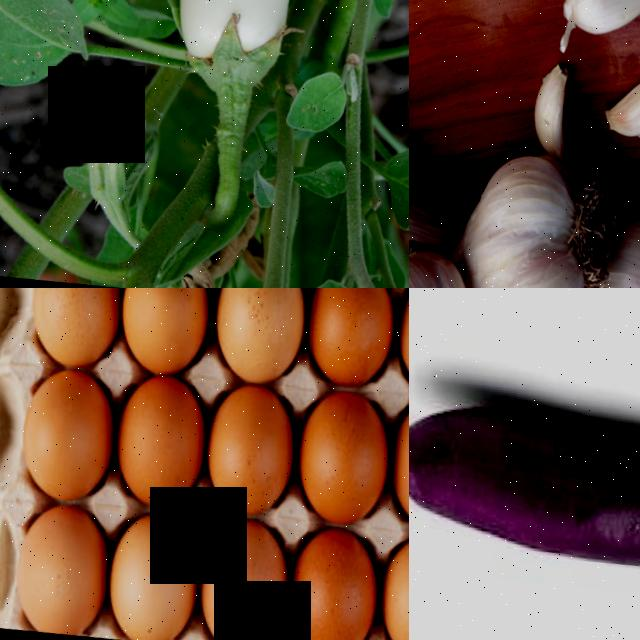egg_: (0, 358, 120, 512), (273, 389, 392, 540), (93, 369, 212, 518), (184, 381, 296, 528), (0, 496, 109, 640), (82, 509, 200, 640), (173, 512, 291, 640), (192, 288, 313, 396), (288, 288, 403, 400), (265, 524, 375, 640), (98, 288, 217, 385), (12, 288, 126, 375), (368, 394, 409, 549), (356, 534, 409, 640), (378, 288, 409, 408)
eggplant: (409, 368, 640, 622), (117, 0, 409, 116)
garlic: (443, 149, 600, 288), (518, 63, 576, 168), (551, 0, 640, 54), (593, 64, 640, 155)
